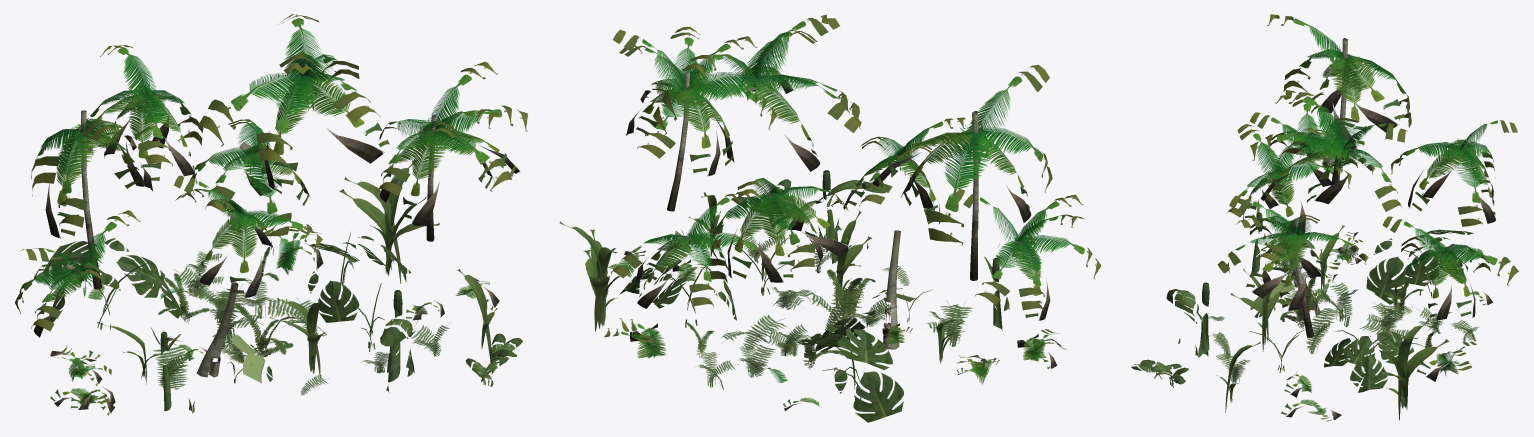
Rendered from tropical_bed.glb.
3 views of the same model, side by side, from view 1: azimuth 30°, elevation 25°; view 2: azimuth 150°, elevation 25°; view 3: azimuth 270°, elevation 25° (orthographic). The views are drawn at different scales.
Visible parts, largest first — view 1: fern_fern_0_w; view 2: fern_fern_0_w; view 3: fern_fern_0_w.
Boxes of the visible parts, left/top/right/bottom form: fern_fern_0_w: left=15, top=14, right=527, bottom=415; fern_fern_0_w: left=559, top=14, right=1100, bottom=422; fern_fern_0_w: left=1131, top=14, right=1518, bottom=421.
Size of the model in its own units: 3.17 by 1.92 by 2.58.
6 materials, 6 textured.
